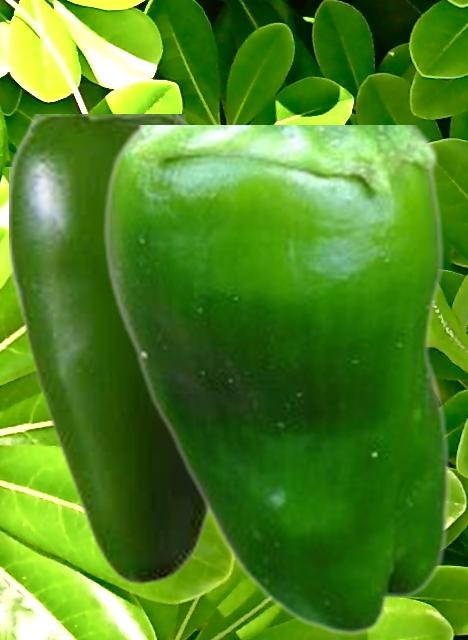green_chili: (101, 125, 449, 635), (9, 114, 209, 585)
